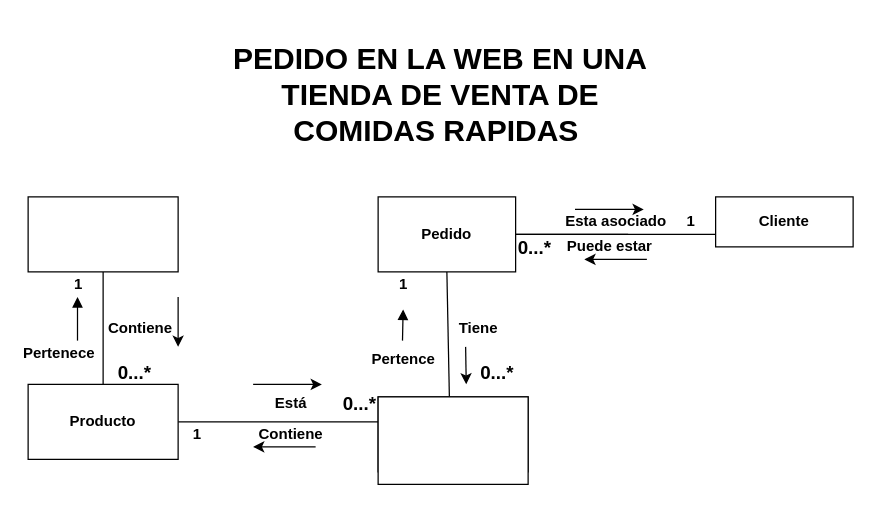
This 875x506 diagram has some shape labels left out. The centre of each missing label's shape, as x and y in pixels:
Detalle Pedido: point 452,440
Tipo de Producto: point 102,234
